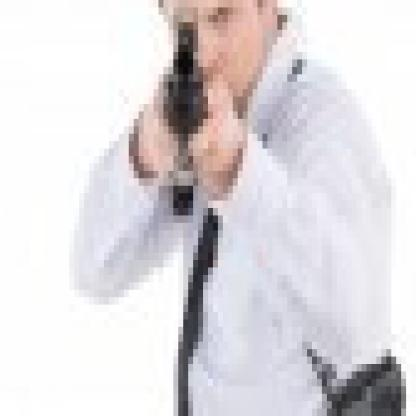gun: (287, 334, 415, 409)
